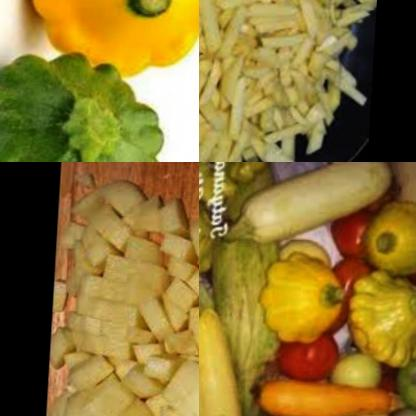potato: (40, 173, 199, 416), (199, 0, 387, 162)
squash-patisson: (0, 49, 174, 162), (24, 0, 199, 79), (260, 253, 363, 348), (349, 267, 416, 364), (352, 194, 416, 282), (199, 178, 240, 283), (199, 162, 274, 205)
tomato: (274, 328, 341, 381)
vegetable marrow: (217, 162, 412, 253), (199, 265, 264, 416), (249, 373, 416, 416), (401, 347, 416, 406)
